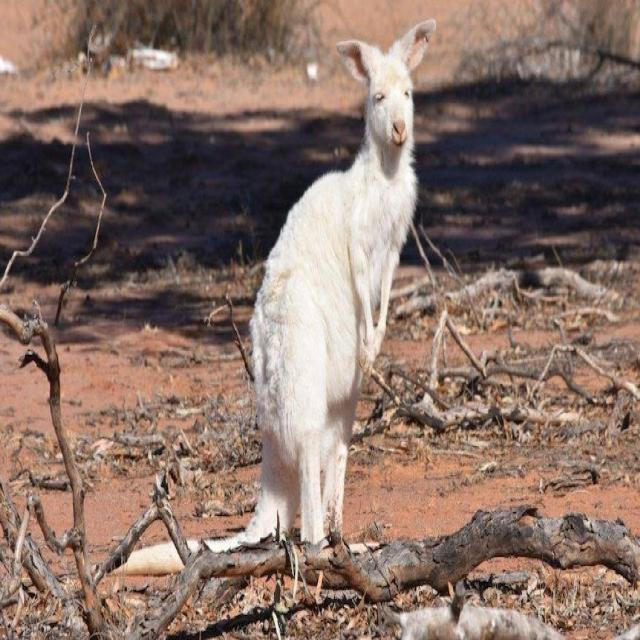kangaroo: (219, 20, 434, 549)
